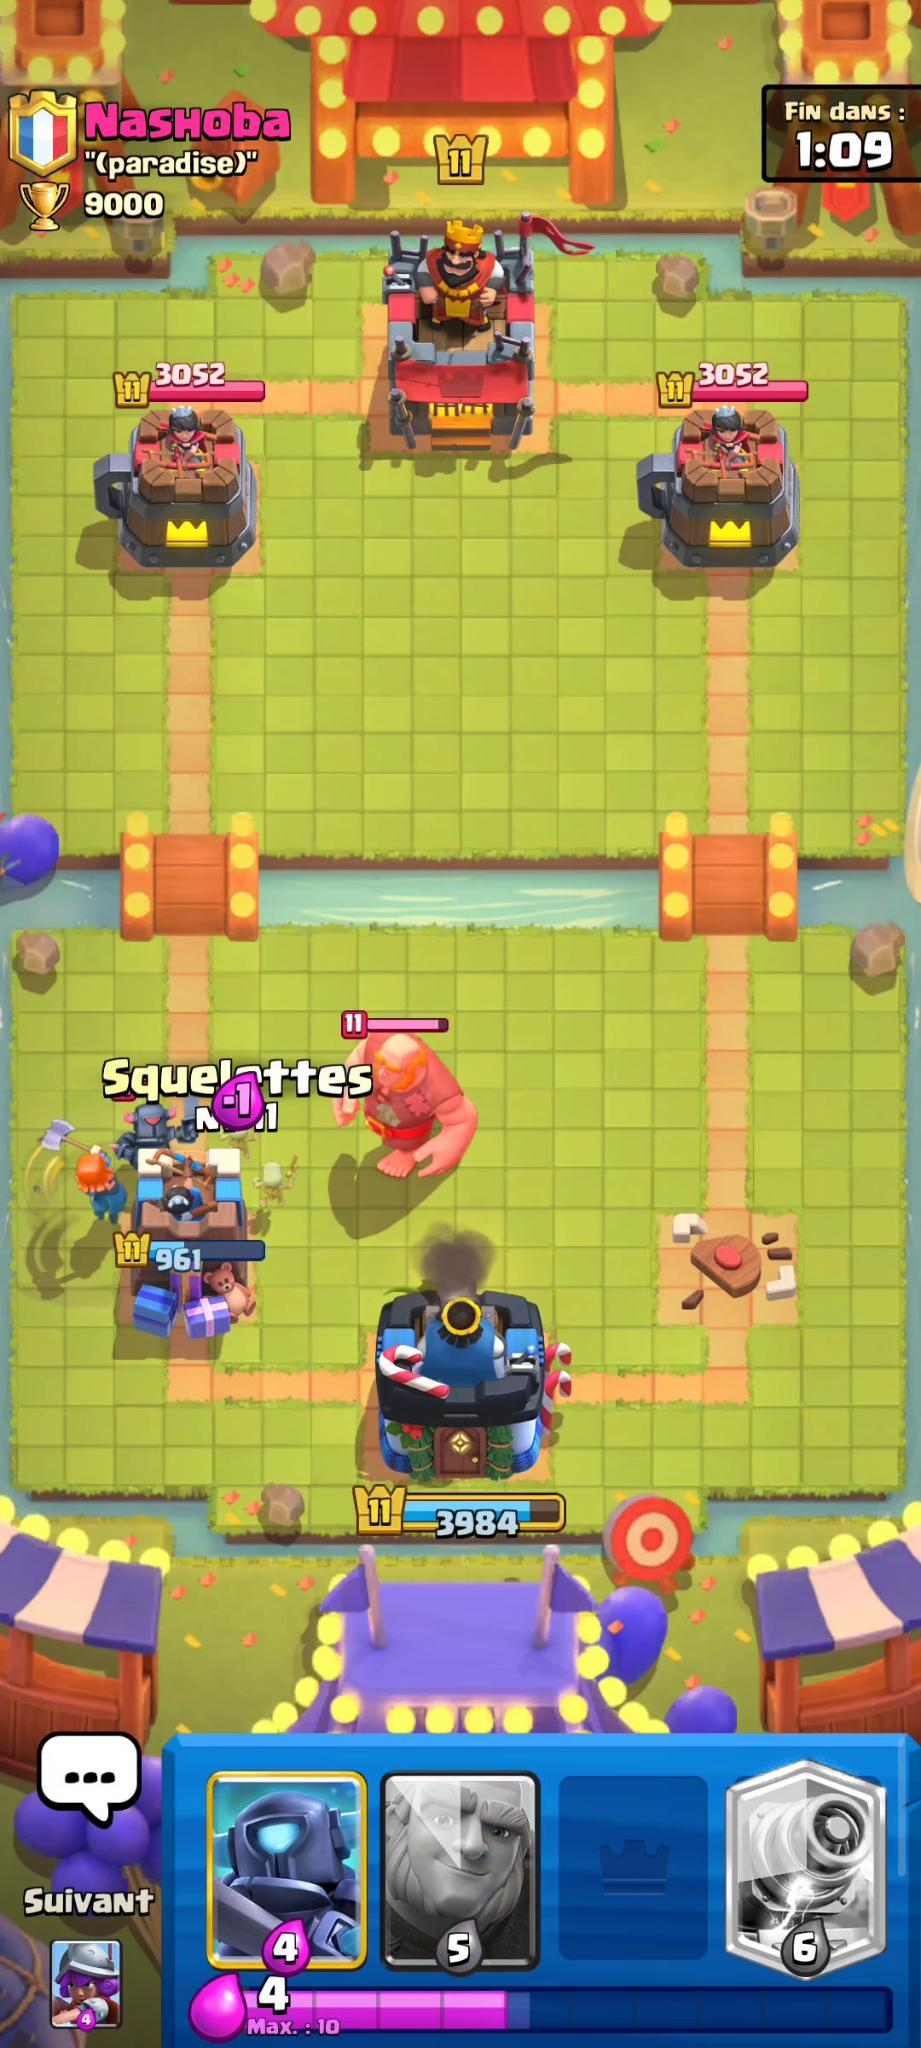geant: (351, 1028, 453, 1189)
mini_PEKKA: (115, 1097, 180, 1164)
squelette: (259, 1160, 293, 1209), (225, 1123, 259, 1166)
valkyrie: (59, 1136, 129, 1226)
